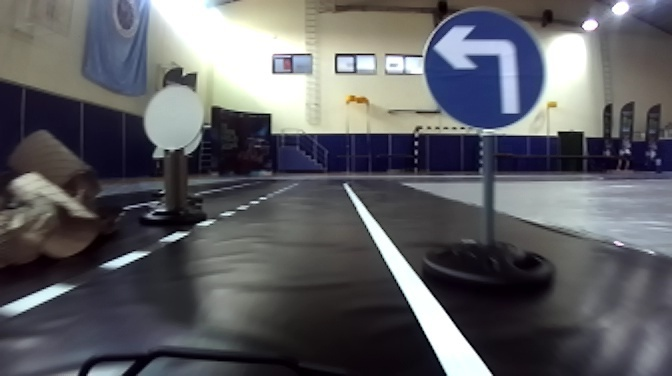sola_donus: (421, 5, 547, 129)
